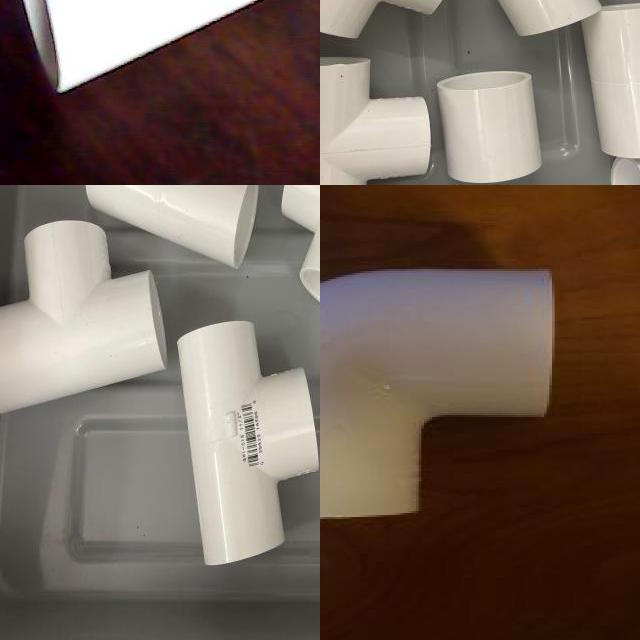L Joint: (320, 270, 556, 523), (496, 0, 604, 40)
T Joint: (22, 0, 270, 95), (320, 56, 433, 185), (591, 3, 640, 158)
